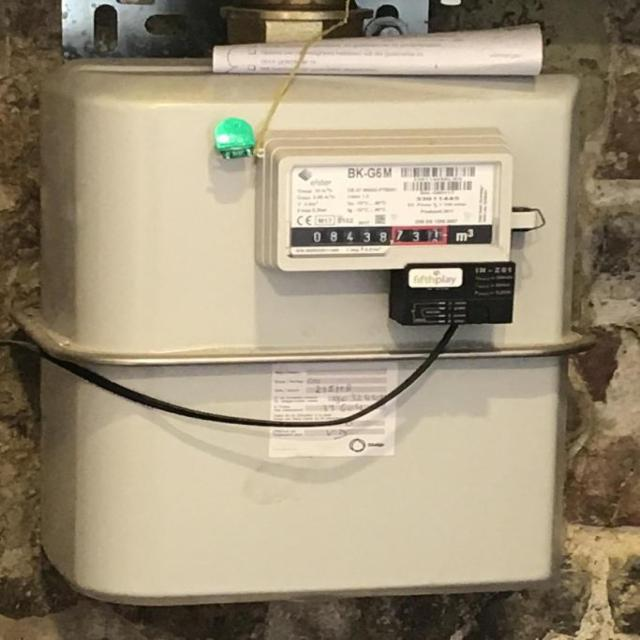gaz_meter: (292, 159, 499, 249)
indication: (299, 226, 449, 247)
